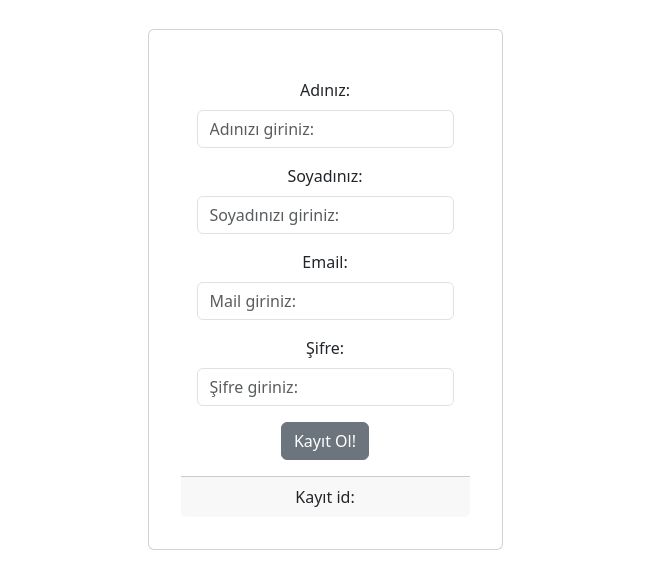
Test: Register page › Errors › password input throws error for weak password
Type "brk3*" into the password field with test id "password-input" at (326, 387), box [197,368,454,406]
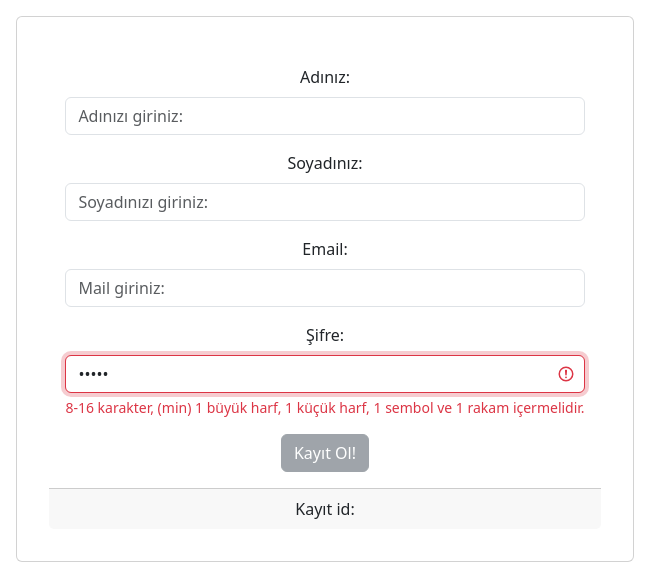
Expected: the text "8-16 karakter, (min) 1 büyük harf, 1 küçük harf, 1 sembol ve 1 rakam içermelidir." is shown, [65,398,584,417]
